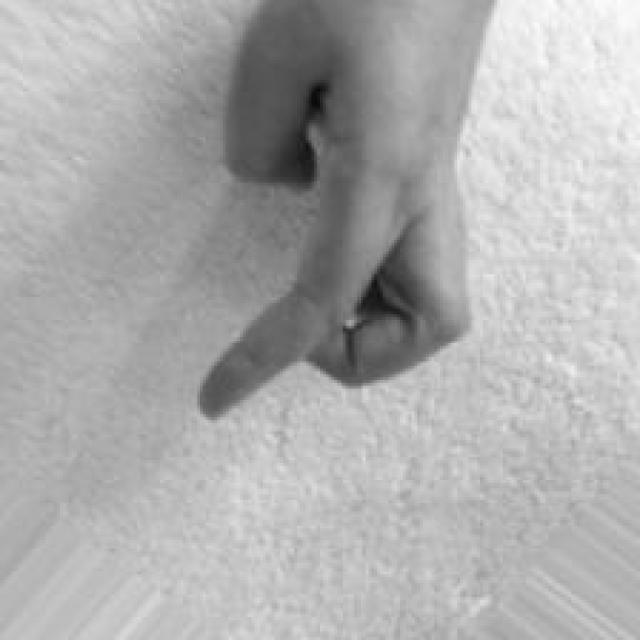P: (197, 0, 498, 427)
